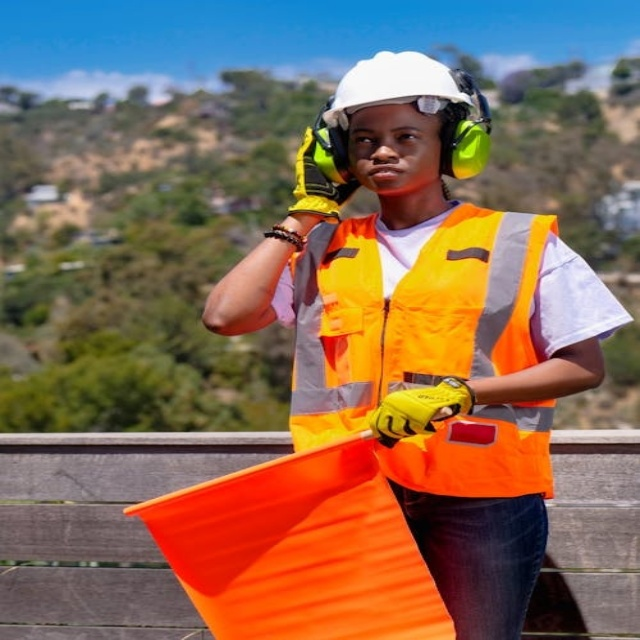Guantes: (366, 376, 476, 447), (291, 111, 362, 216)
Sin_gafas: (344, 120, 439, 147)
Sin_mascara: (360, 164, 413, 188)
